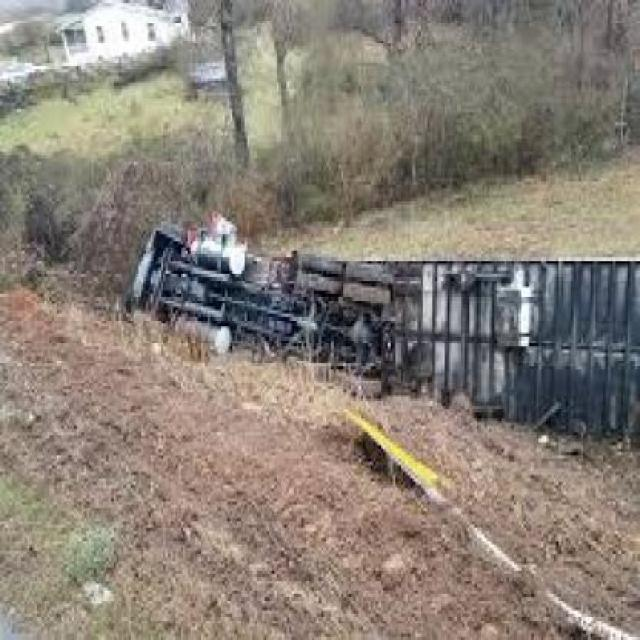accident: (84, 169, 640, 483)
